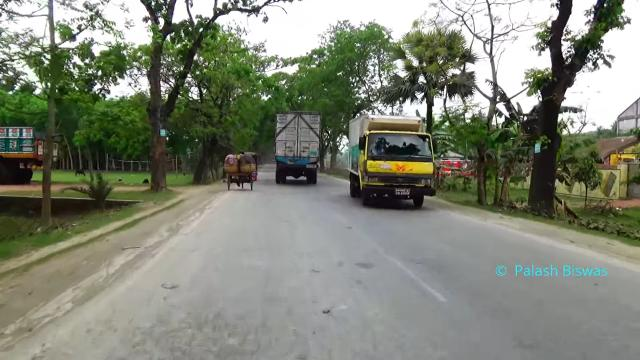truck: (344, 102, 434, 214), (270, 101, 327, 195), (0, 116, 58, 179)
